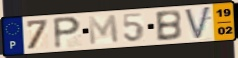5: (122, 13, 147, 44)
7: (25, 18, 50, 51)
B: (154, 9, 184, 42)
M: (87, 14, 121, 47)
P: (52, 16, 83, 51)
V: (183, 5, 213, 41)
